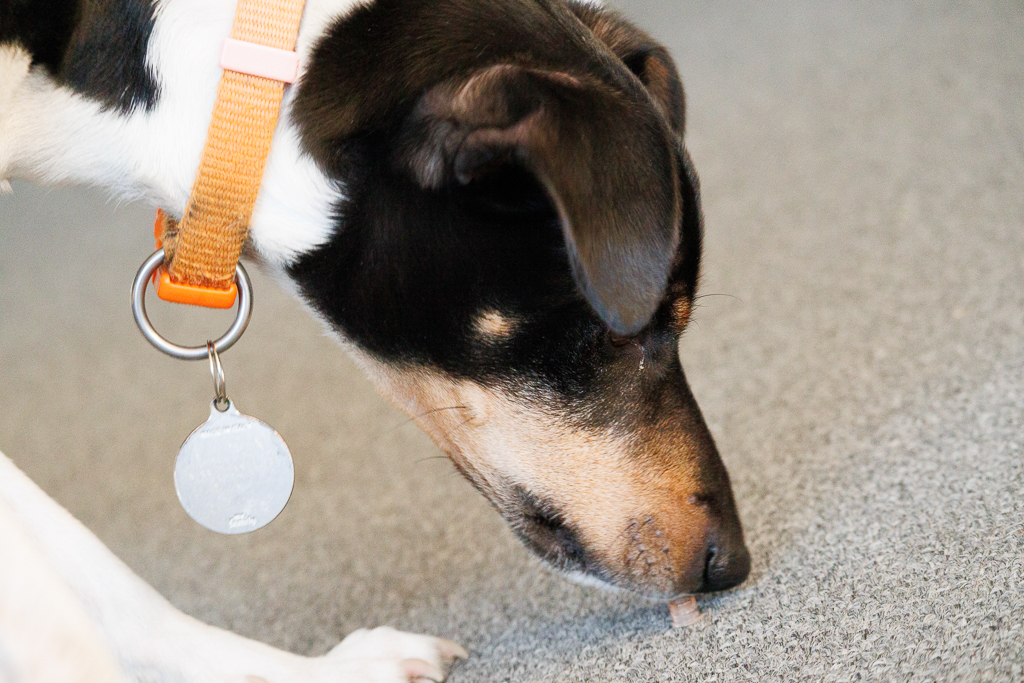Dog: (0, 0, 764, 683)
